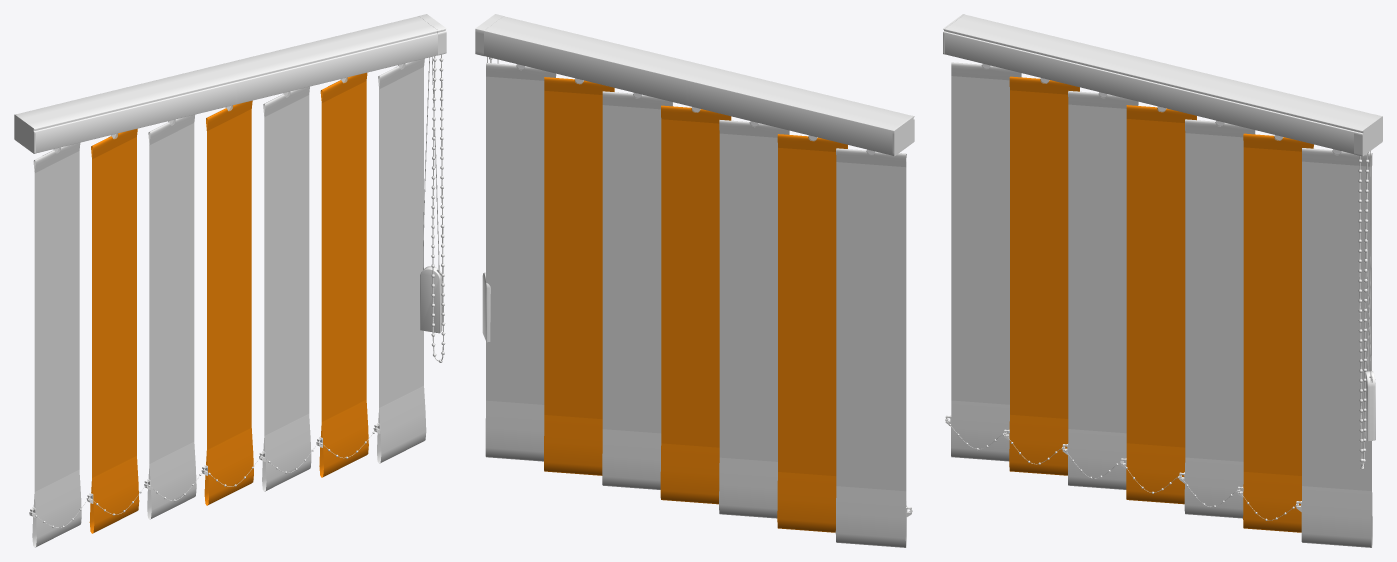
The model's file is Senkrechte, rechteckige Fenster und Tueren.glb.
The picture shows the model from 3 angles, left to right: view 1: azimuth 30°, elevation 25°; view 2: azimuth 150°, elevation 25°; view 3: azimuth 330°, elevation 25°; orthographic projection.
Parts seen in each view (by area): view 1: Cube, Plane.005, Plane.003, Plane.002, Plane.006, Plane.001, Plane.004, Plane.007, Cylinder.003, Sphere.001, BezierCurve.001, Cube.001 (+1 smaller); view 2: Plane.002, Plane.005, Plane.004, Plane.001, Plane.003, Plane.006, Plane.007, Cube, Cube.001, Cylinder.003; view 3: Plane.007, Plane.004, Plane.005, Plane.001, Plane.006, Plane.002, Plane.003, Cube, Cube.005, Sphere.001, BezierCurve.001, Cylinder.003 (+1 smaller).
Part boxes in pixels (left/top/right/bottom): Cube: left=17, top=16, right=437, bottom=153; Plane.005: left=262, top=86, right=311, bottom=491; Plane.003: left=147, top=114, right=196, bottom=519; Plane.002: left=32, top=142, right=81, bottom=547; Plane.006: left=319, top=72, right=368, bottom=477; Plane.001: left=89, top=128, right=139, bottom=533; Plane.004: left=204, top=100, right=253, bottom=505; Plane.007: left=377, top=58, right=426, bottom=463; Cylinder.003: left=420, top=266, right=442, bottom=333; Sphere.001: left=431, top=58, right=445, bottom=362; BezierCurve.001: left=432, top=54, right=443, bottom=361; Cube.001: left=14, top=114, right=35, bottom=153; Plane.002: left=835, top=148, right=906, bottom=547; Plane.005: left=602, top=91, right=672, bottom=489; Plane.004: left=660, top=105, right=731, bottom=504; Plane.001: left=777, top=134, right=847, bottom=532; Plane.003: left=719, top=120, right=789, bottom=518; Plane.006: left=544, top=77, right=614, bottom=475; Plane.007: left=485, top=63, right=556, bottom=461; Cube: left=484, top=16, right=911, bottom=155; Cube.001: left=892, top=115, right=914, bottom=156; Cylinder.003: left=482, top=272, right=490, bottom=342; Plane.007: left=1301, top=148, right=1372, bottom=547; Plane.004: left=1126, top=105, right=1196, bottom=504; Plane.005: left=1184, top=119, right=1255, bottom=518; Plane.001: left=1009, top=76, right=1079, bottom=475; Plane.006: left=1243, top=133, right=1313, bottom=532; Plane.002: left=951, top=62, right=1021, bottom=461; Plane.003: left=1068, top=91, right=1138, bottom=489; Cube: left=945, top=14, right=1373, bottom=153; Cube.005: left=1354, top=114, right=1382, bottom=156; Sphere.001: left=1358, top=152, right=1369, bottom=469; BezierCurve.001: left=1359, top=153, right=1368, bottom=467; Cylinder.003: left=1363, top=371, right=1375, bottom=440.
Bounding box in the file's own units: 1.31 × 1.27 × 0.1093.
Materials: 4 (1 with a texture image).
